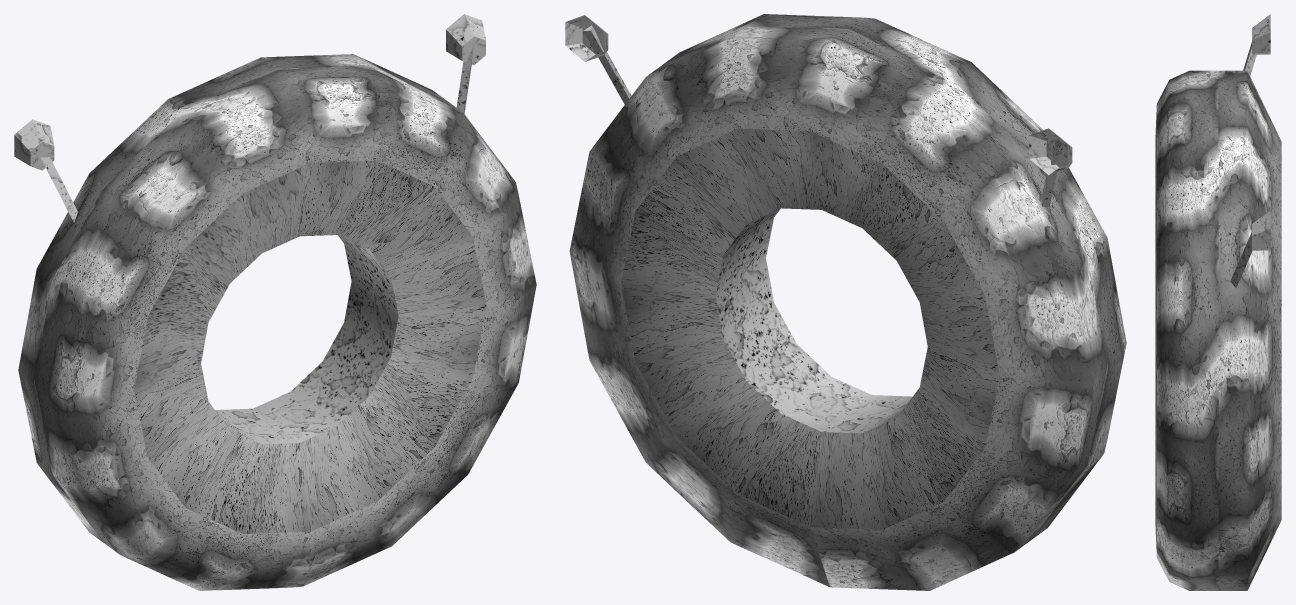
The model's file is straight_tire_dock_01.fbx.
3 renders of one model, left to right at view 1: azimuth 30°, elevation 25°; view 2: azimuth 150°, elevation 25°; view 3: azimuth 270°, elevation 25°, orthographic. The views are drawn at different scales.
Parts seen in each view (by area): view 1: straight_tire_dock_01; view 2: straight_tire_dock_01; view 3: straight_tire_dock_01.
Boxes of the visible parts, <box> form: straight_tire_dock_01: <box>14,14,536,590</box>; straight_tire_dock_01: <box>565,14,1126,590</box>; straight_tire_dock_01: <box>1155,14,1281,590</box>.
Size of the model in its own units: 2 by 2 by 0.4862.
